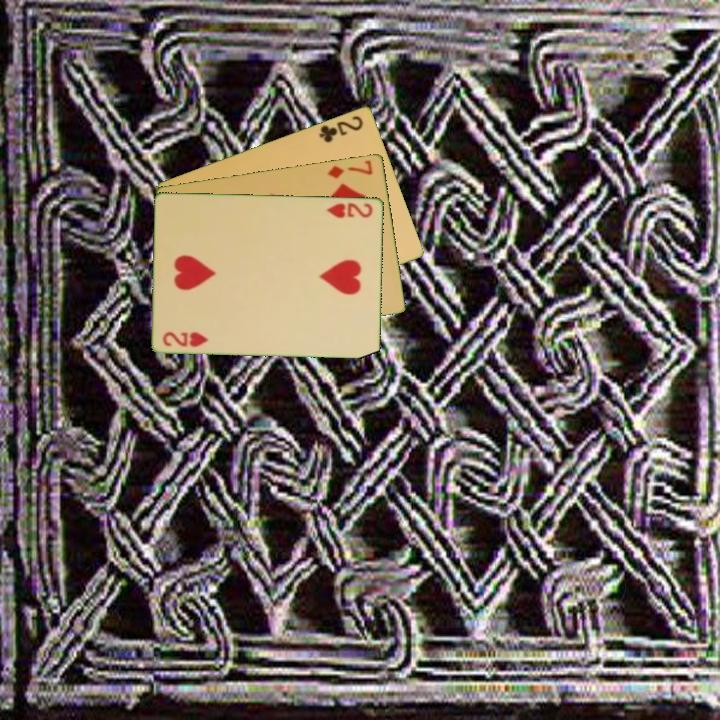2c: (316, 112, 366, 145)
2h: (323, 199, 375, 221), (160, 328, 211, 349)
7d: (324, 156, 375, 181)
